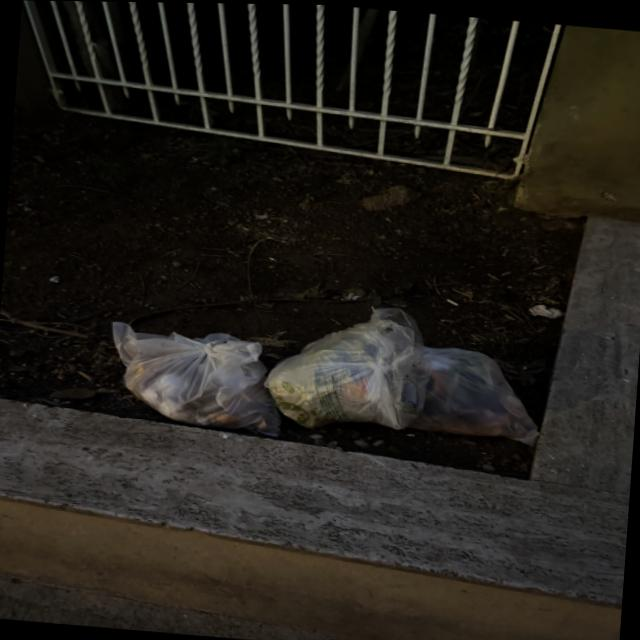Organic Waste -White Bags-: (117, 306, 531, 442)
